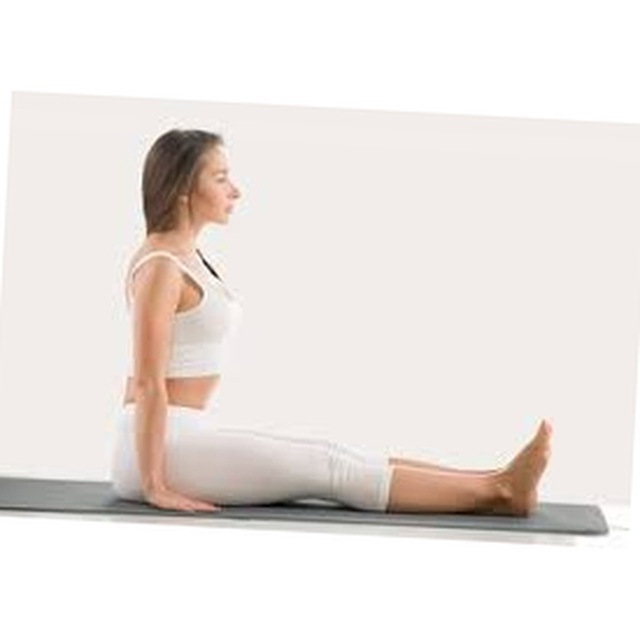Staff_Pose: (111, 128, 555, 518)
